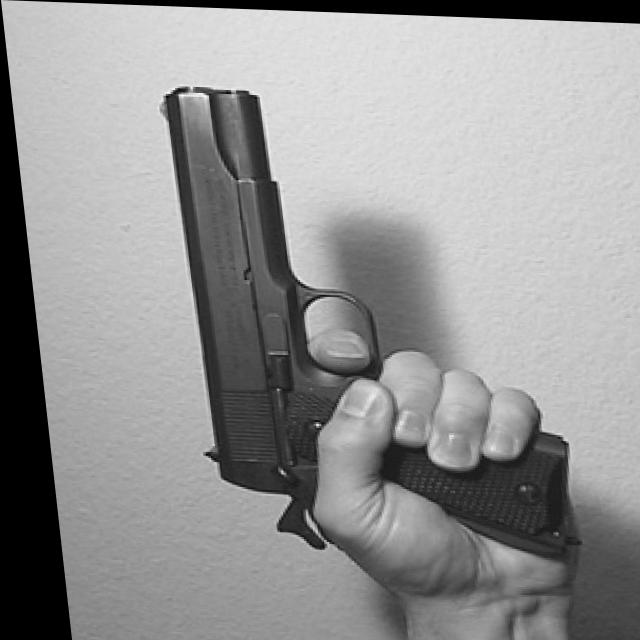handgun: (146, 80, 578, 559)
